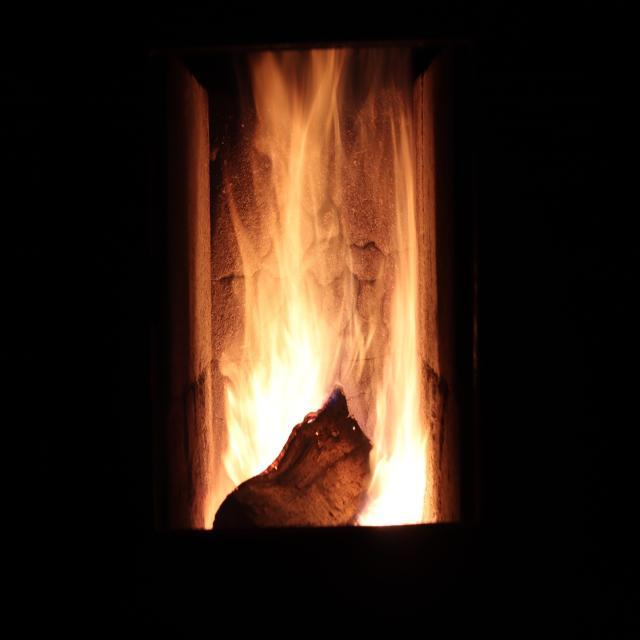Fire: (204, 49, 432, 527)
